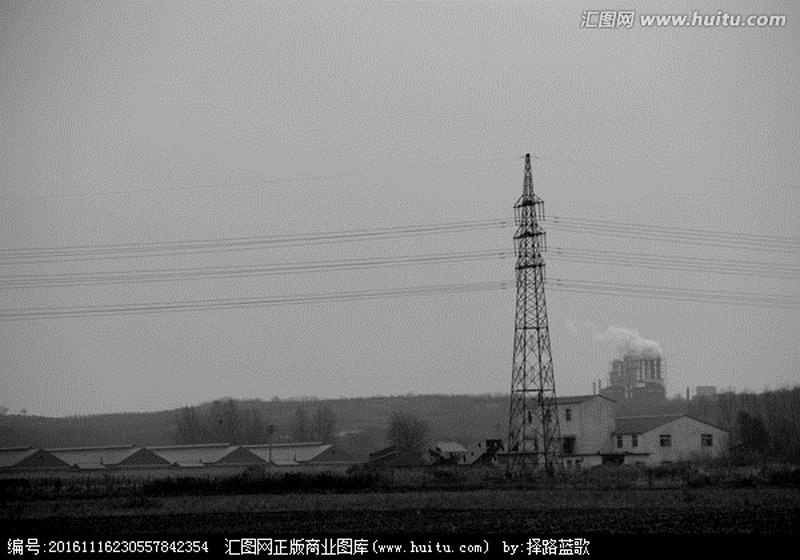power_tower: (488, 147, 586, 465)
